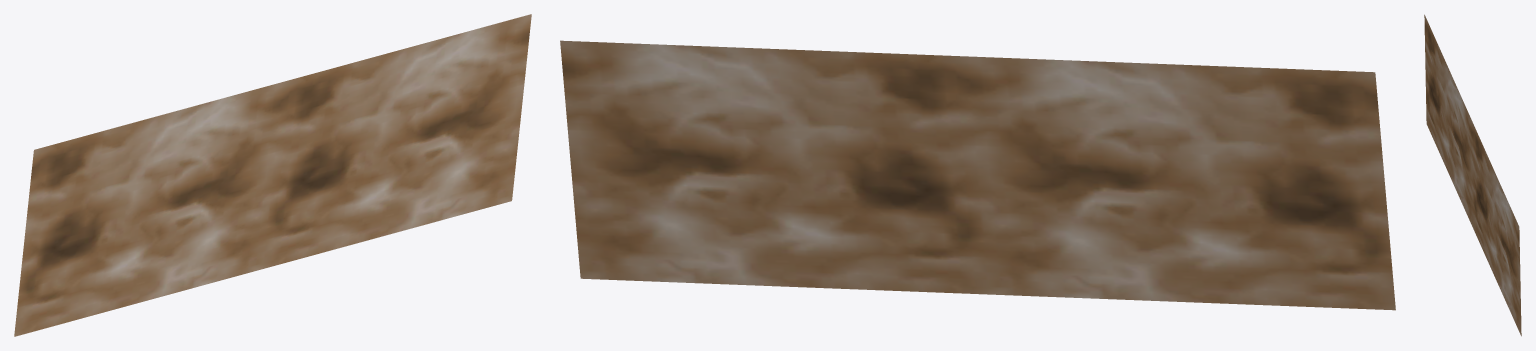
Rendered from pref_ActivityWesternCowboyWidget.fbx.
3 views of the same model, side by side, from view 1: azimuth 30°, elevation 25°; view 2: azimuth 150°, elevation 25°; view 3: azimuth 270°, elevation 25° (orthographic). The views are drawn at different scales.
Visible parts, largest first — view 1: GameObject (2); view 2: GameObject (2); view 3: GameObject (2).
Boxes of the visible parts, <box> form: GameObject (2): <box>14,14,531,336</box>; GameObject (2): <box>560,40,1395,310</box>; GameObject (2): <box>1424,14,1521,336</box>.
Bounding box in the file's own units: 2259 × 888 × 512.
